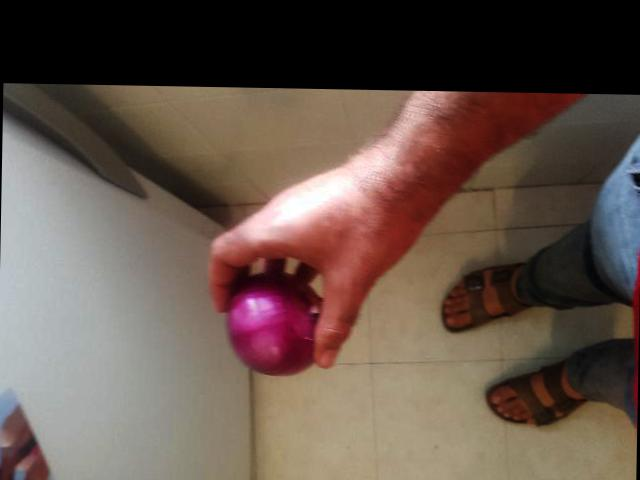onion: (228, 272, 335, 380)
